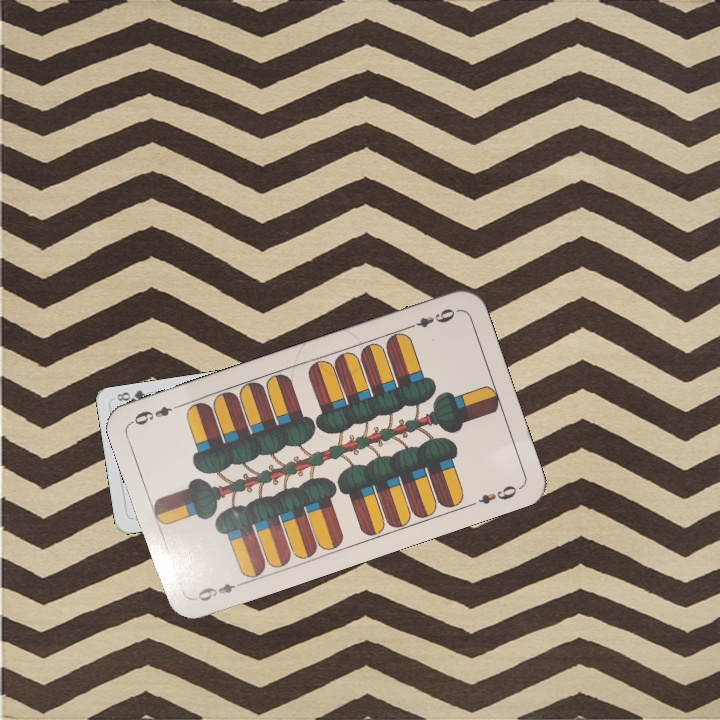E9: (403, 304, 461, 332), (193, 577, 247, 604)
